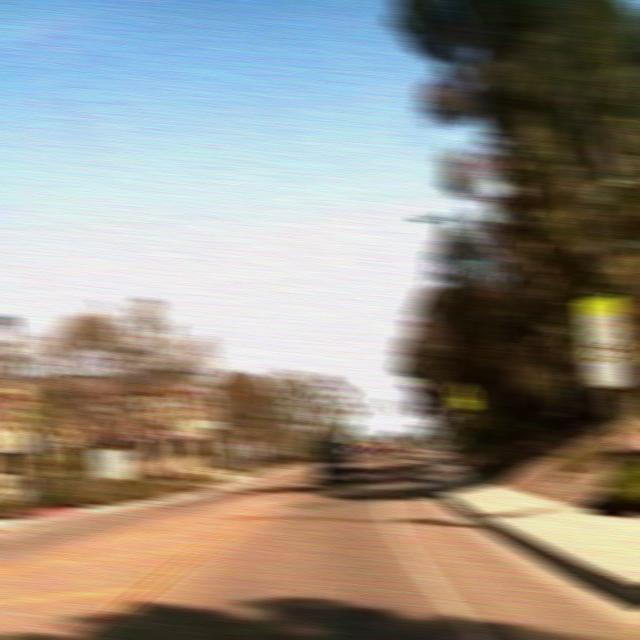speedLimit25: (577, 292, 630, 389)
